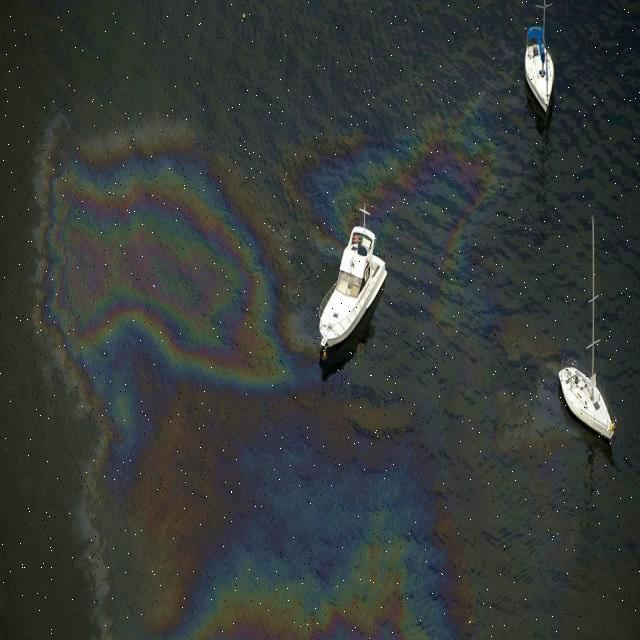oil: (27, 91, 566, 640)
